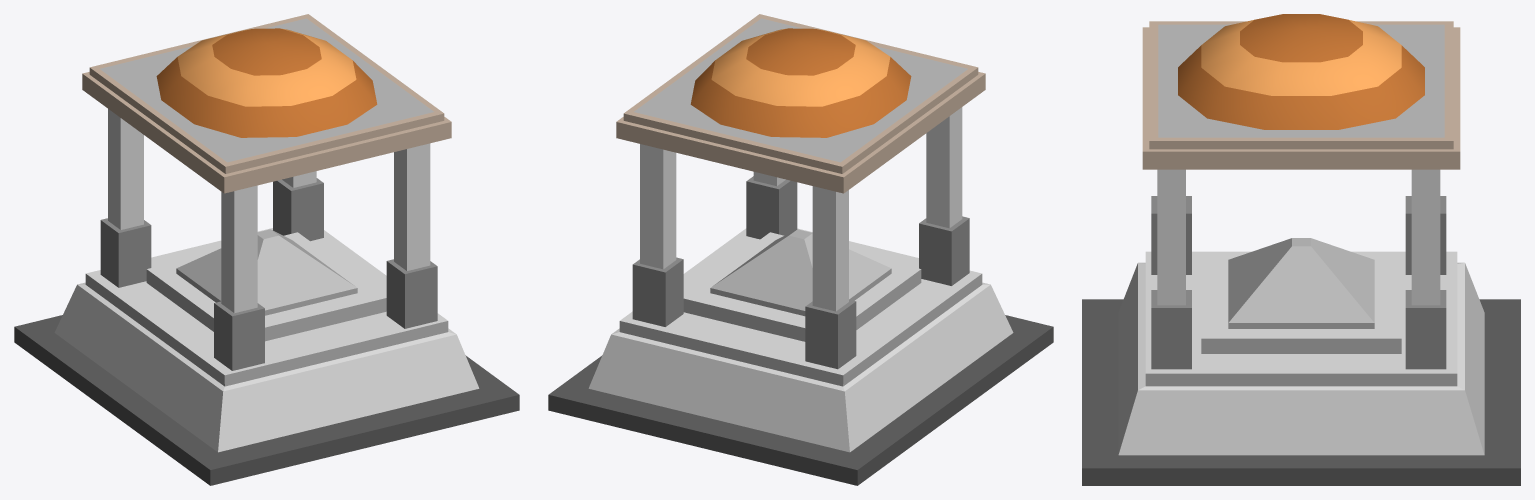
Rendered from HWN20_Grave_25.glb.
3 renders of one model, left to right at view 1: azimuth 30°, elevation 25°; view 2: azimuth 150°, elevation 25°; view 3: azimuth 270°, elevation 25°, orthographic. The views are drawn at different scales.
Visible parts, largest first — view 1: HWN20_Grave_25; view 2: HWN20_Grave_25; view 3: HWN20_Grave_25.
Part boxes in pixels (bbox=[...]): HWN20_Grave_25: bbox=[14, 14, 519, 485]; HWN20_Grave_25: bbox=[548, 14, 1053, 485]; HWN20_Grave_25: bbox=[1082, 14, 1520, 485].
Size of what is drawn, in the model's own units: 1.22 by 1.26 by 1.34.
Materials: 1 (1 with a texture image).
